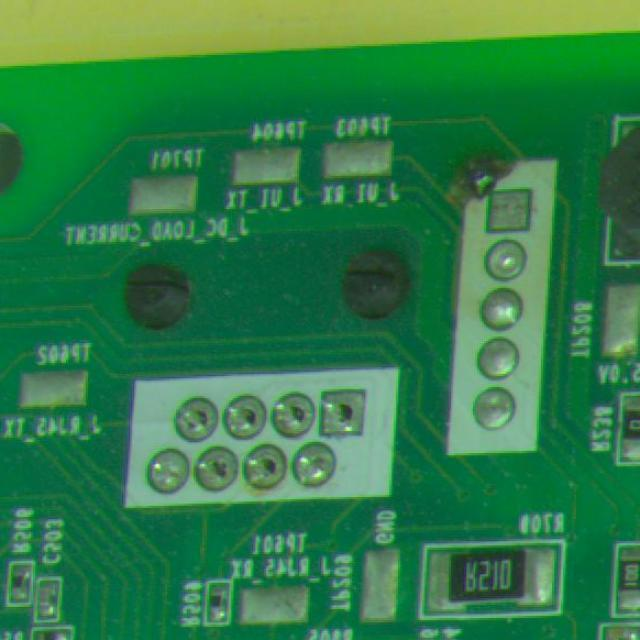Insufficient solder: (316, 385, 382, 439), (267, 382, 320, 442), (148, 444, 192, 501), (240, 444, 292, 492), (224, 386, 268, 441), (192, 447, 242, 495), (175, 393, 218, 441), (300, 441, 346, 485)
